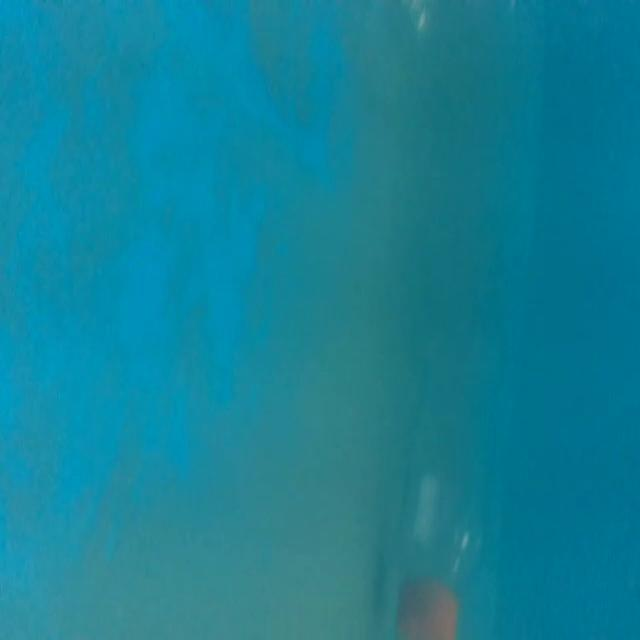plastic bottle: (382, 296, 507, 640)
